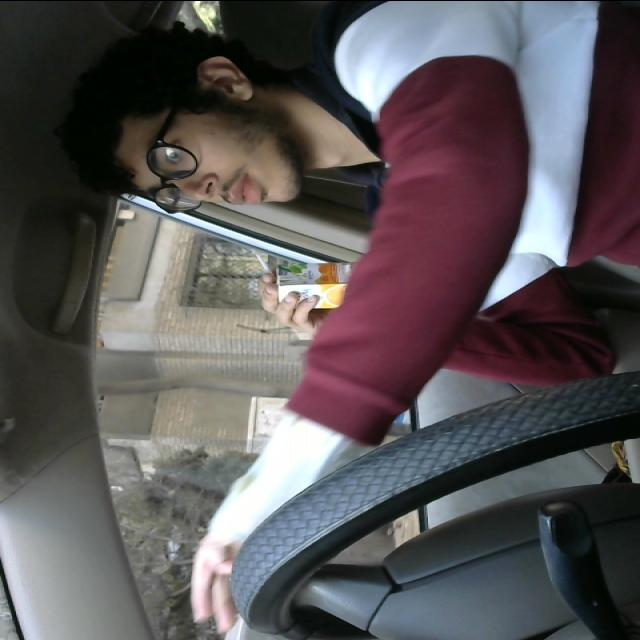drinking: (248, 250, 402, 314)
